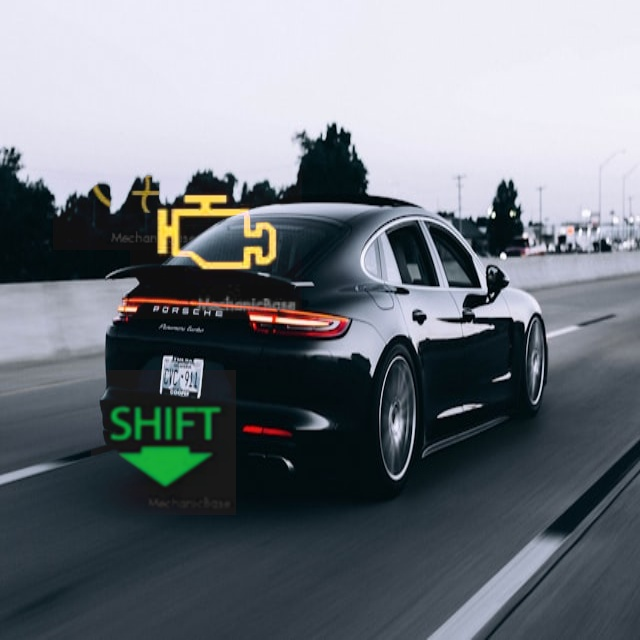symbol: (130, 147, 302, 319), (53, 102, 201, 250), (91, 370, 236, 515)
